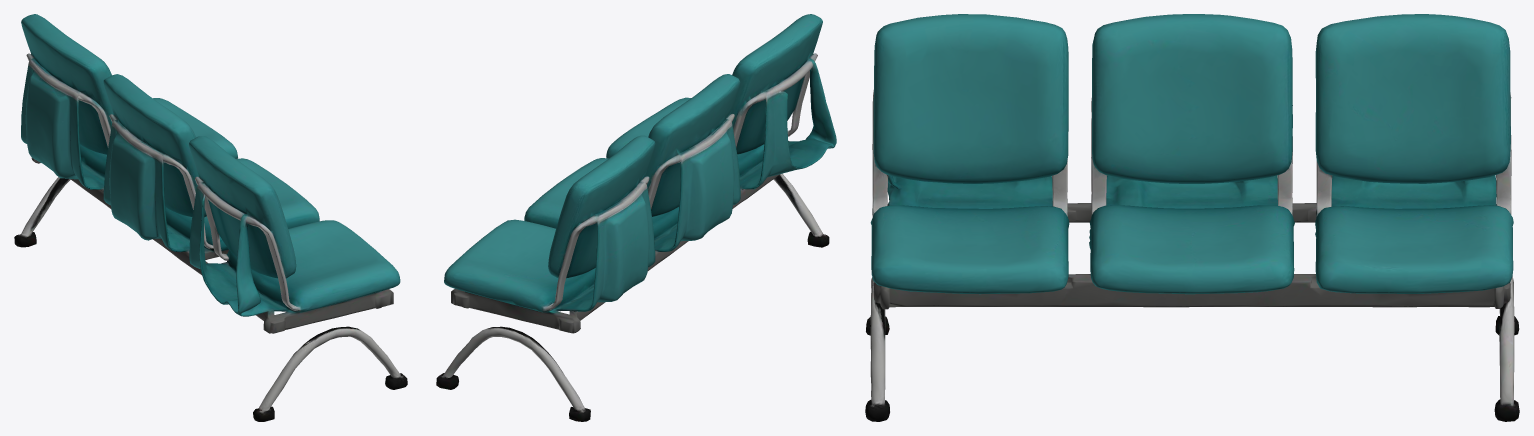
File: waiting_seats.glb
3 views of the same model, side by side, from view 1: azimuth 30°, elevation 25°; view 2: azimuth 150°, elevation 25°; view 3: azimuth 270°, elevation 25° (orthographic). The views are drawn at different scales.
Parts seen in each view (by area): view 1: tripo_node_dc5dc7d9-c660-421d-aff1-cc2cc2c6183c; view 2: tripo_node_dc5dc7d9-c660-421d-aff1-cc2cc2c6183c; view 3: tripo_node_dc5dc7d9-c660-421d-aff1-cc2cc2c6183c.
Part boxes in pixels (x1,y1,x2,y2): tripo_node_dc5dc7d9-c660-421d-aff1-cc2cc2c6183c: [14, 14, 407, 421]; tripo_node_dc5dc7d9-c660-421d-aff1-cc2cc2c6183c: [436, 14, 836, 421]; tripo_node_dc5dc7d9-c660-421d-aff1-cc2cc2c6183c: [865, 14, 1519, 421].
Size of the model in its own units: 0.3926 by 0.5284 by 1.
Materials: 1 (1 with a texture image).
